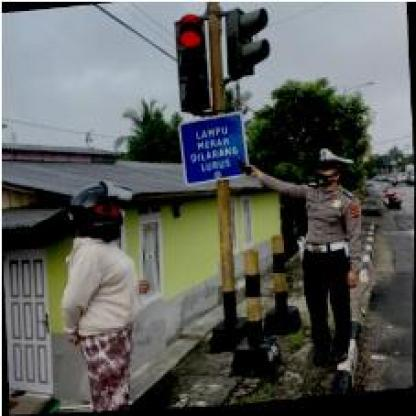red: (173, 14, 212, 115)
